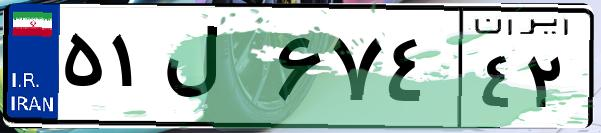1: (110, 28, 158, 98)
2: (525, 38, 570, 115)
4: (385, 28, 445, 110), (475, 38, 525, 113)
5: (57, 26, 110, 100)
6: (270, 28, 330, 110)
7: (330, 28, 385, 110)
ل: (158, 20, 270, 120)
